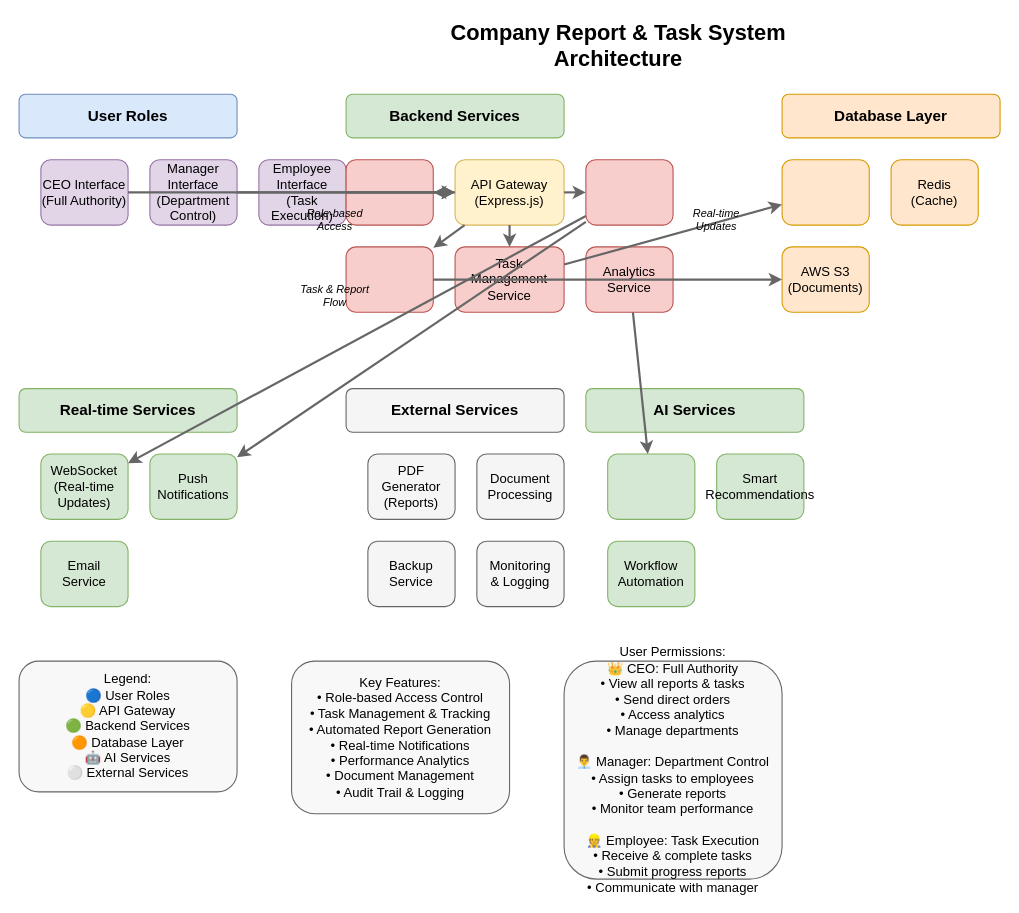
Image size: 1019x913. Some labels were removed from this diagram. The centre of each missing label's shape, as x and y in pixels:
"AI Analytics (Insights)" belongs at (x=651, y=486).
"Authentication Service" belongs at (x=389, y=192).
"Notification Service" belongs at (x=629, y=192).
"PostgreSQL (Main DB)" belongs at (x=825, y=192).
"Report Service" belongs at (x=389, y=279).
